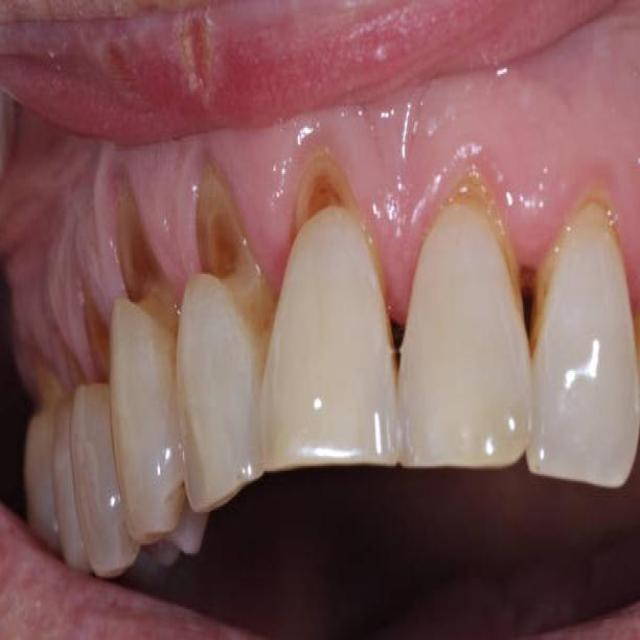caries: (510, 258, 548, 361), (383, 309, 421, 382)
